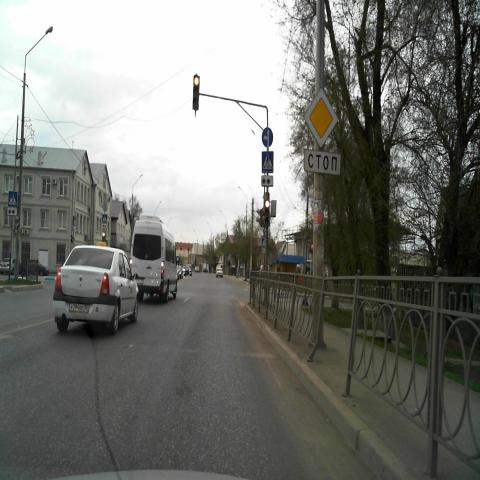4_1_5: (262, 127, 273, 147)
8_15: (262, 176, 273, 186)
